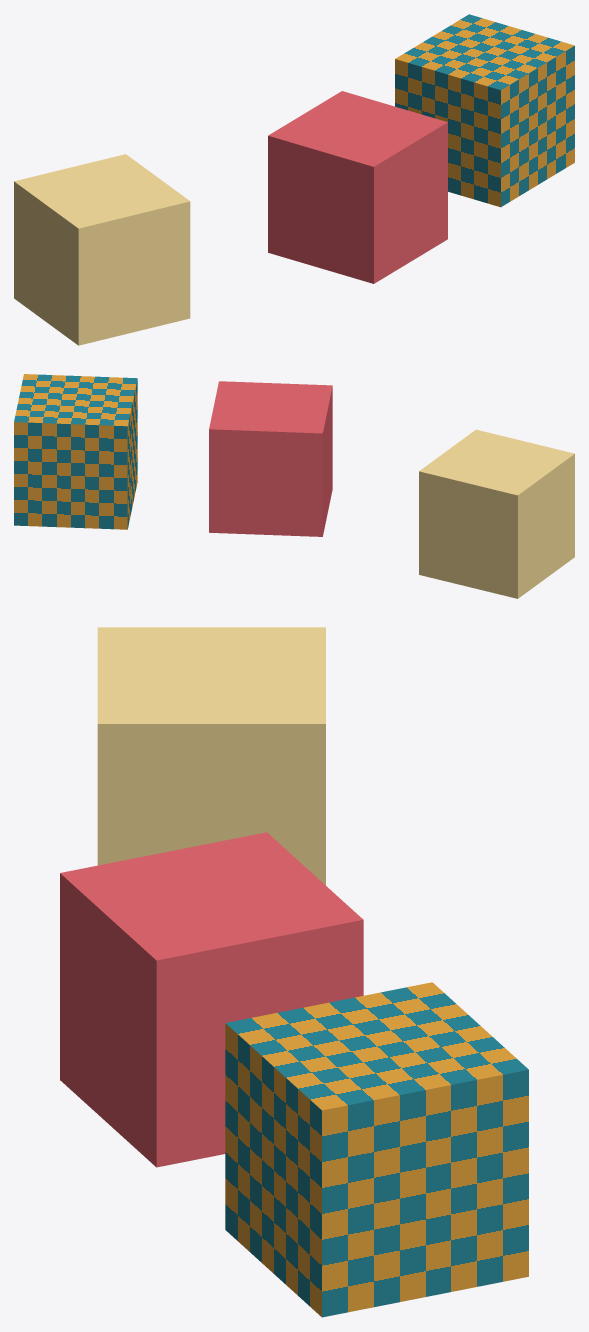
File: fuzz-seed-toy.gltf
3 renders of one model, top to bottom at view 1: azimuth 30°, elevation 25°; view 2: azimuth 150°, elevation 25°; view 3: azimuth 270°, elevation 25°, orthographic. The views are drawn at different scales.
Parts seen in each view (by area): view 1: red, gold, textured; view 2: gold, red, textured; view 3: textured, red, gold.
Boxes of the visible parts, x1=… form: red: x1=268, y1=91, x2=447, y2=283; gold: x1=14, y1=154, x2=190, y2=345; textured: x1=395, y1=14, x2=574, y2=207; gold: x1=419, y1=429, x2=574, y2=598; red: x1=209, y1=381, x2=332, y2=536; textured: x1=14, y1=374, x2=137, y2=529; textured: x1=225, y1=982, x2=528, y2=1317; red: x1=60, y1=832, x2=363, y2=1167; gold: x1=97, y1=627, x2=325, y2=885.
Size of the model in its own units: 7.01 by 1.4 by 2.87.
3 materials, 1 textured.
